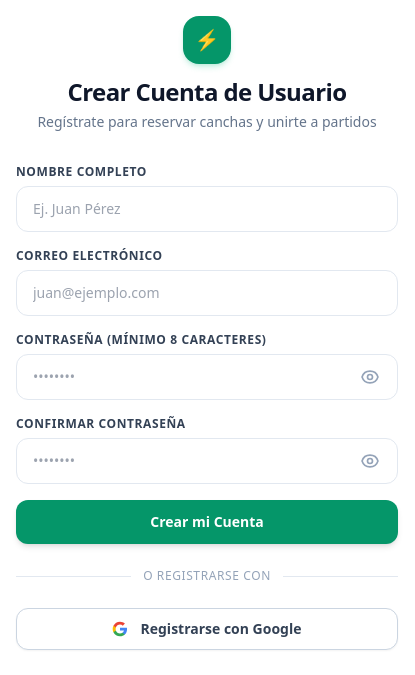
Frontend Auth & Club Onboarding Suite › renders User Register page and validates password mismatch
Type "Test User" into the field with placeholder "Ej. Juan Pérez" at (207, 209), box [16,186,398,232]
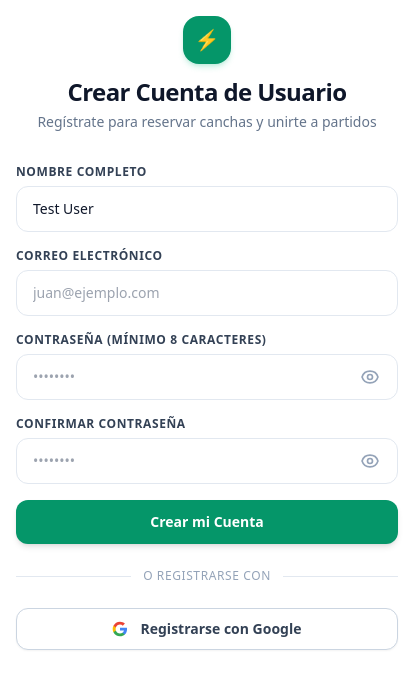
Type "test@example.com" into the field with placeholder "juan@ejemplo.com" at (207, 293), box [16,270,398,316]
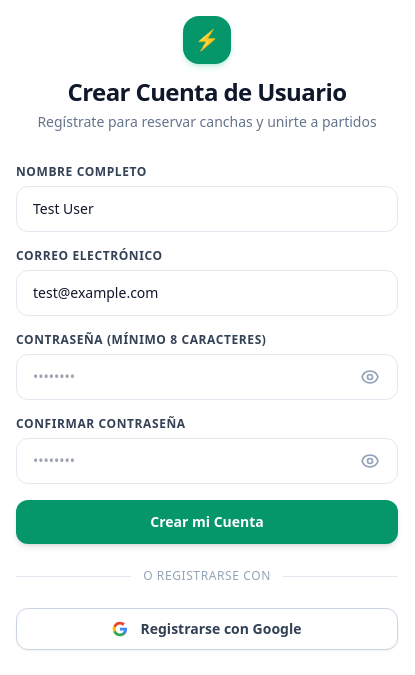
Type "pass12345" into the password field with placeholder "••••••••" below "Contraseña (mínimo 8 caracteres)" at (207, 377), box [16,354,398,400]
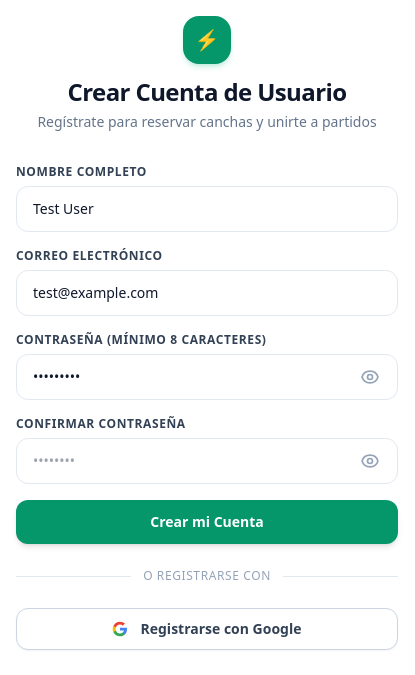
Type "mismatchpass" into the password field with placeholder "••••••••" at (207, 461), box [16,438,398,484]
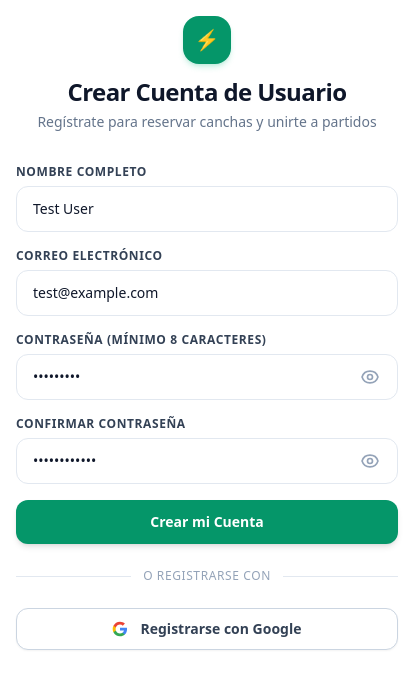
Click the button "Crear mi Cuenta" at (207, 522), box [16,500,398,544]
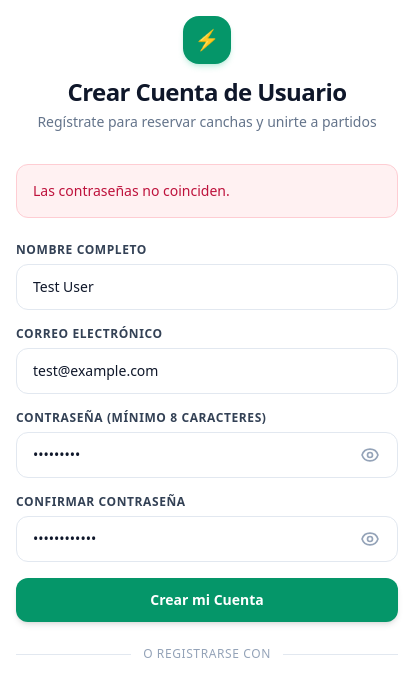
Expected: the text "Las contraseñas no coinciden." is shown, [16,164,398,218]
